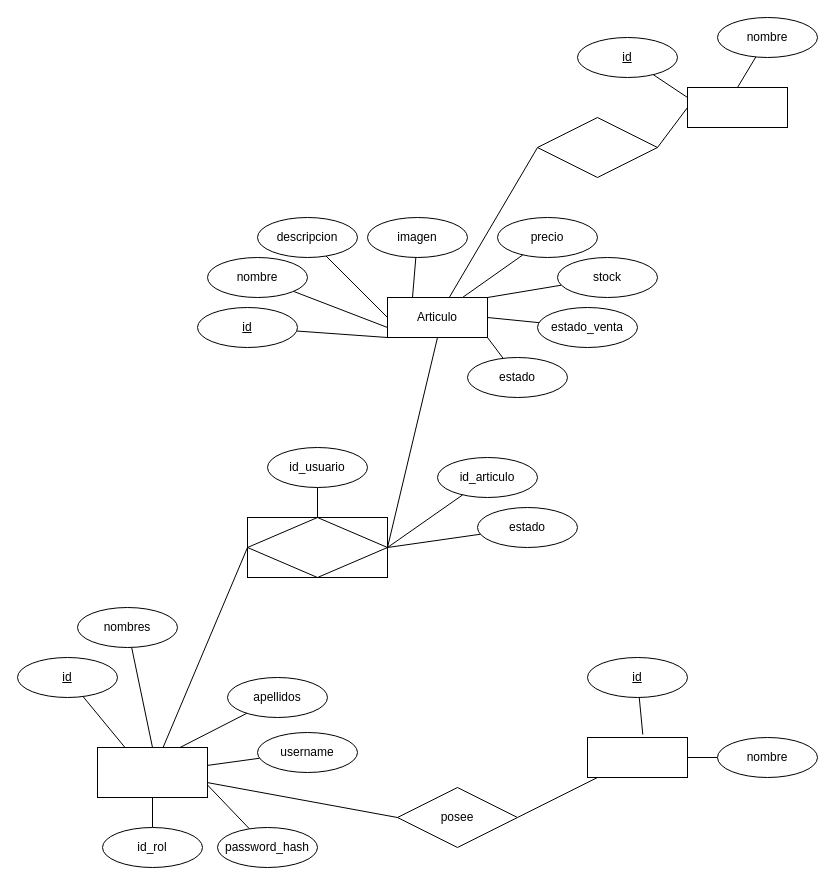
The diagram is 835 pixels wide and 885 high, and some of its shapes have lost their labels. Each missing label, with the centre of its shape:
"categoria" goes at [737,107].
"rol" goes at [637,757].
"tiene" goes at [597,147].
"usuario" goes at [152,772].
"venta" goes at [317,547].
